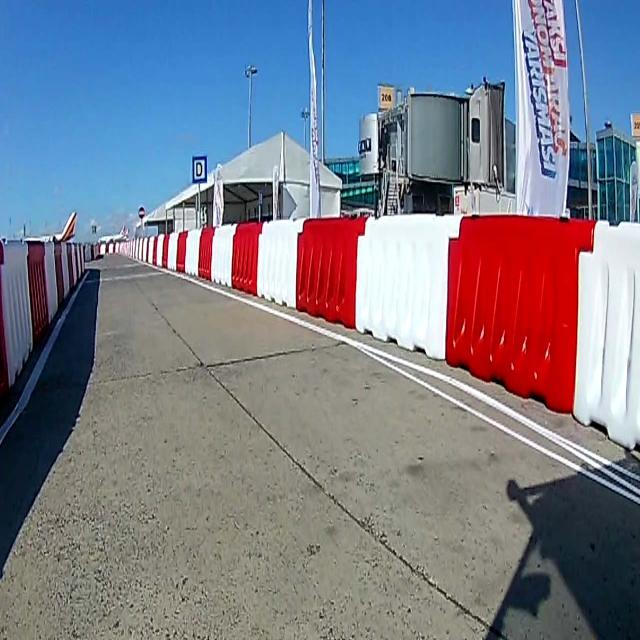durak: (192, 156, 208, 184)
girisyok: (138, 207, 145, 220)
